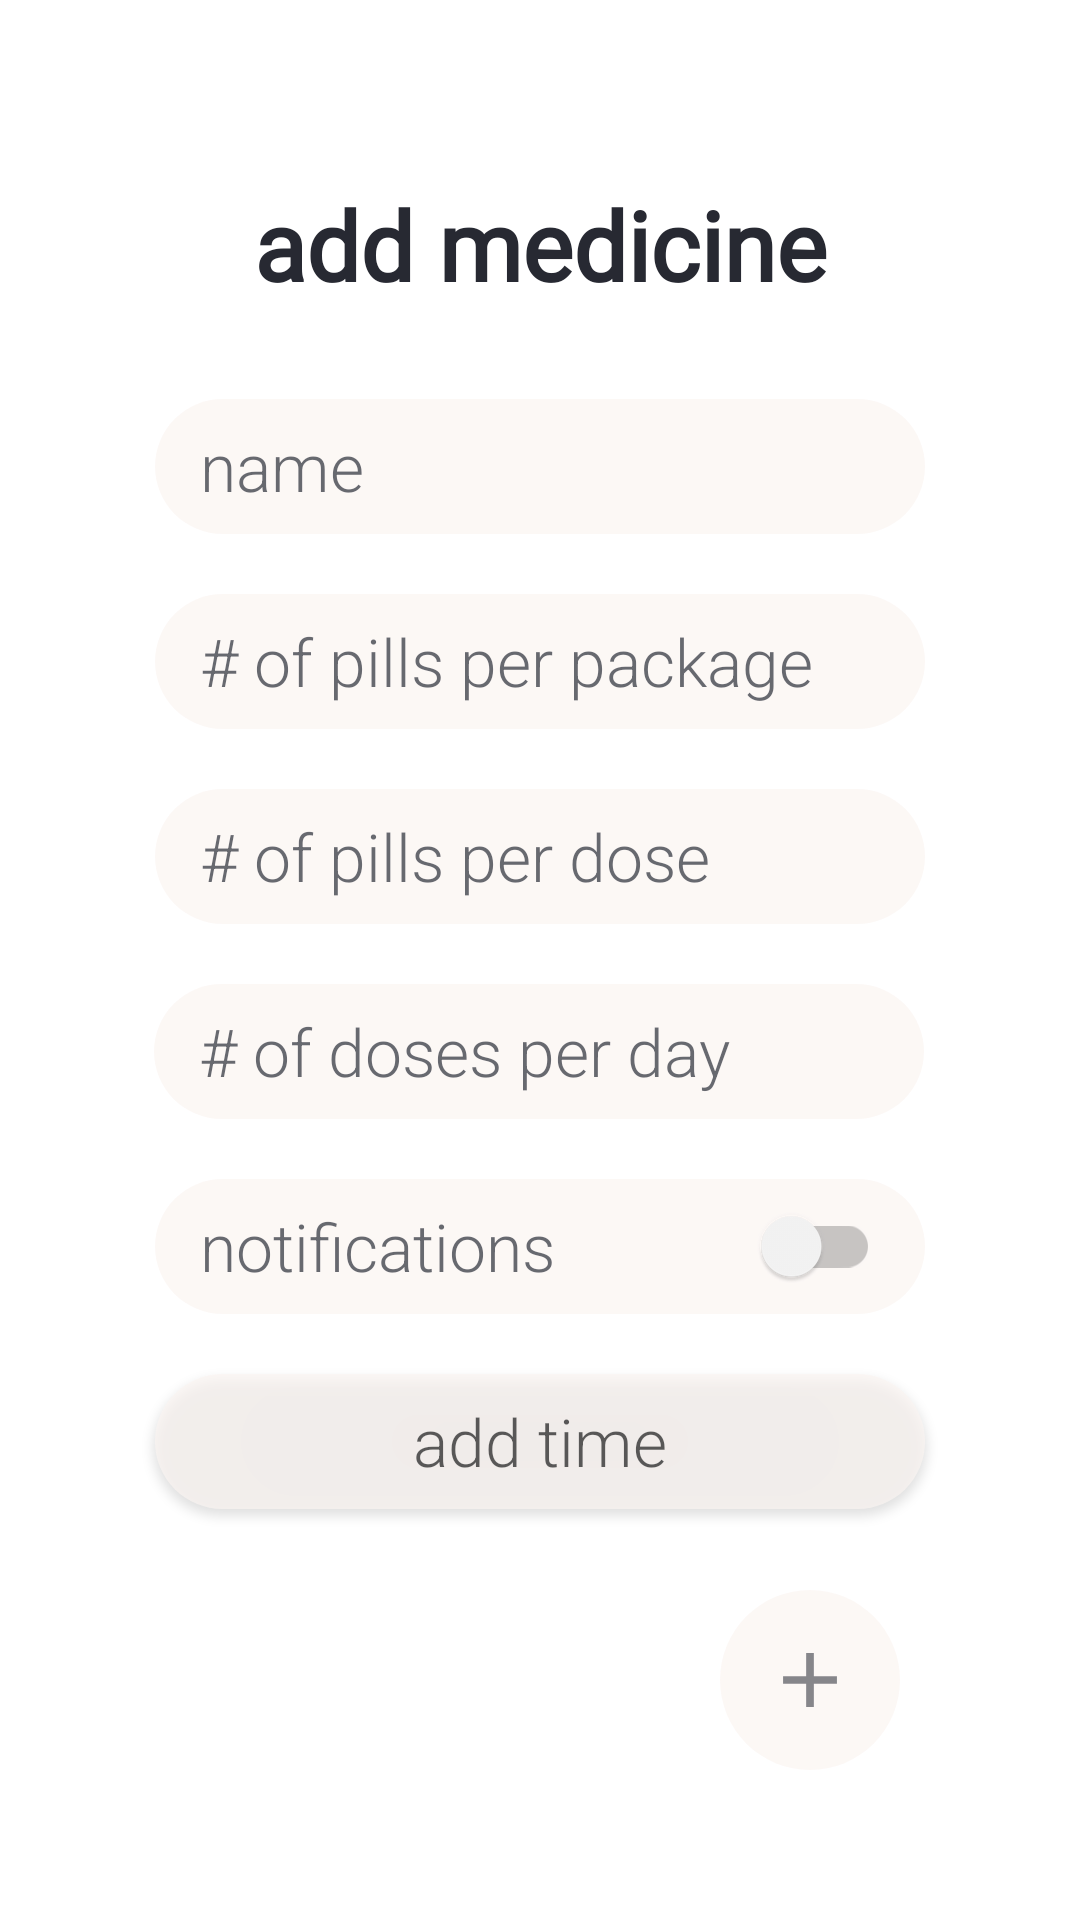

Named icons in this screenshot (1080px x 1920px) and their bounding boxes, (x1, y1, x2, y2):
plus: (720, 1590, 900, 1770)
